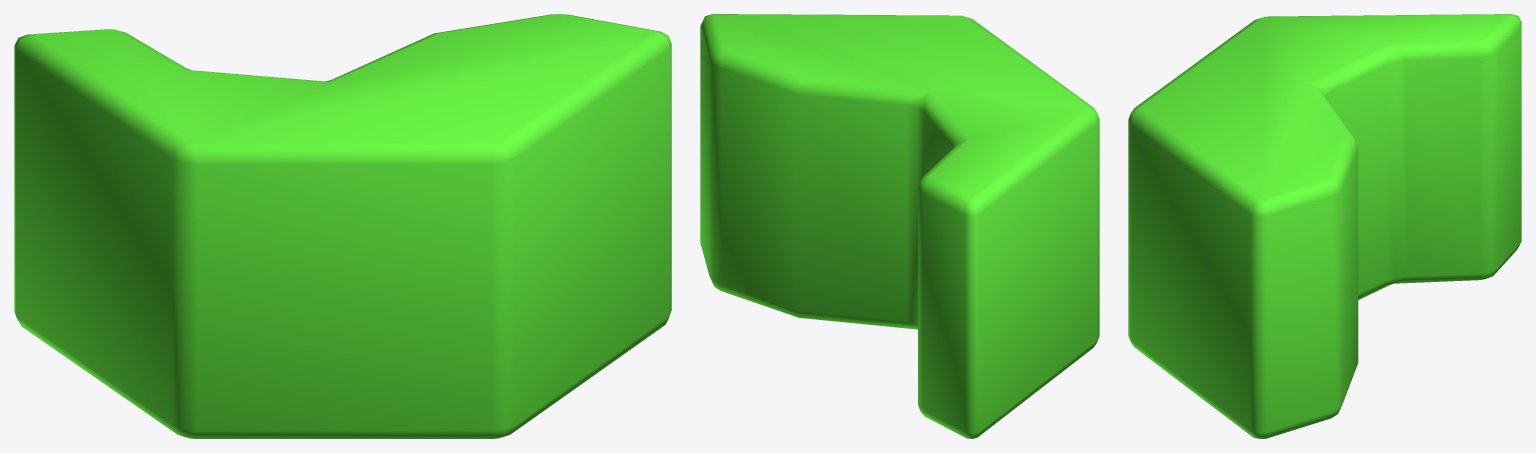
File: grass_border2.glb
The picture shows the model from 3 angles, left to right: view 1: azimuth 30°, elevation 25°; view 2: azimuth 150°, elevation 25°; view 3: azimuth 270°, elevation 25°; orthographic projection. The views are drawn at different scales.
Visible parts, largest first — view 1: grass_border2; view 2: grass_border2; view 3: grass_border2.
Boxes of the visible parts, <box> form: grass_border2: <box>14,14,671,438</box>; grass_border2: <box>700,14,1099,438</box>; grass_border2: <box>1128,14,1521,438</box>.
Bounding box in the file's own units: 7.04 × 4 × 5.96.
